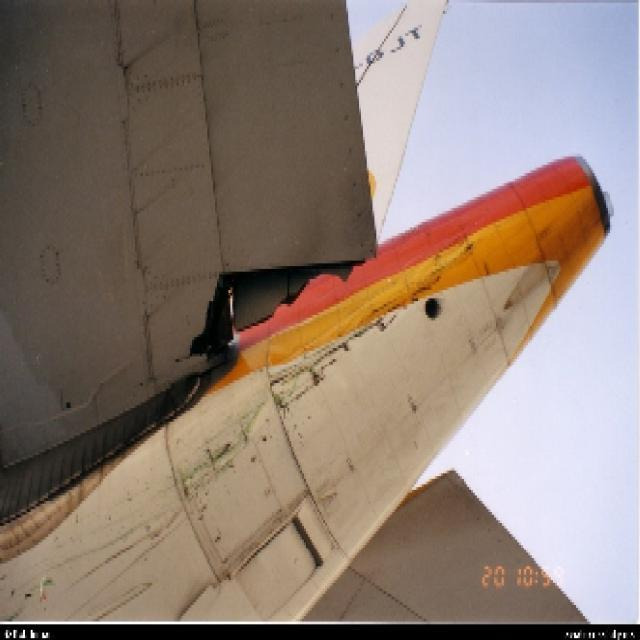crack: (170, 260, 372, 364)
